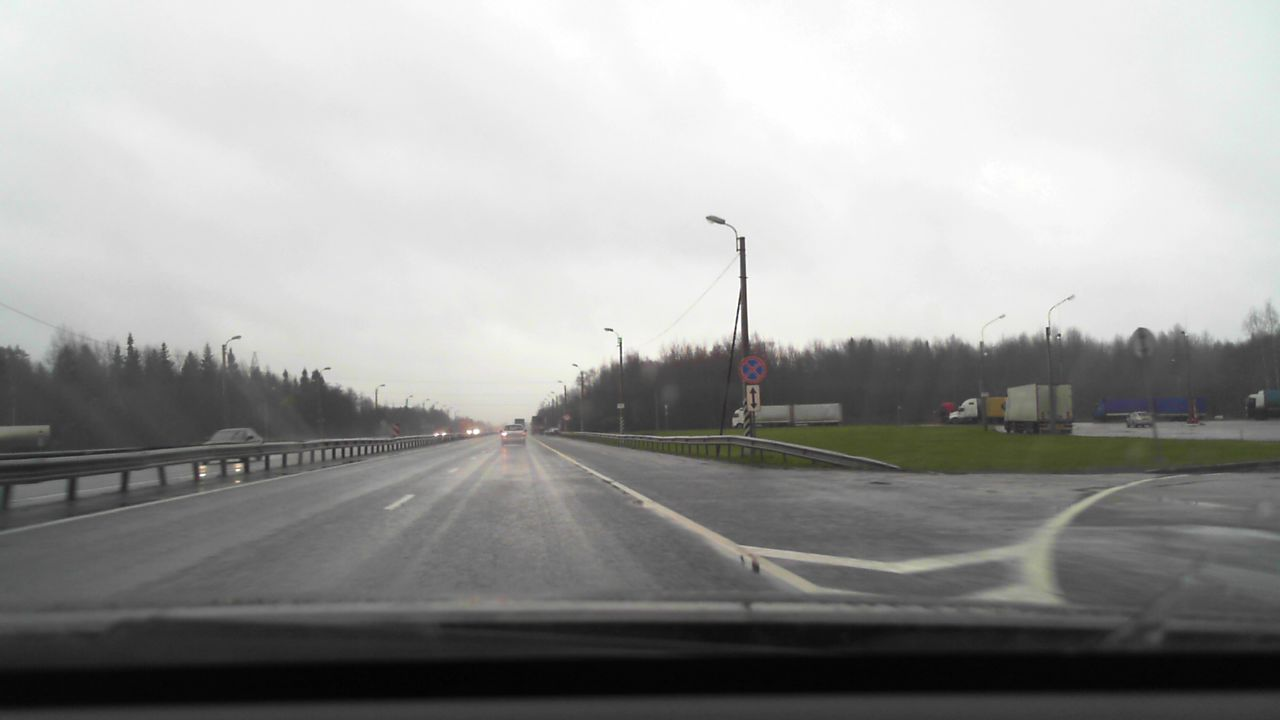No Parking: (736, 355, 766, 383)
